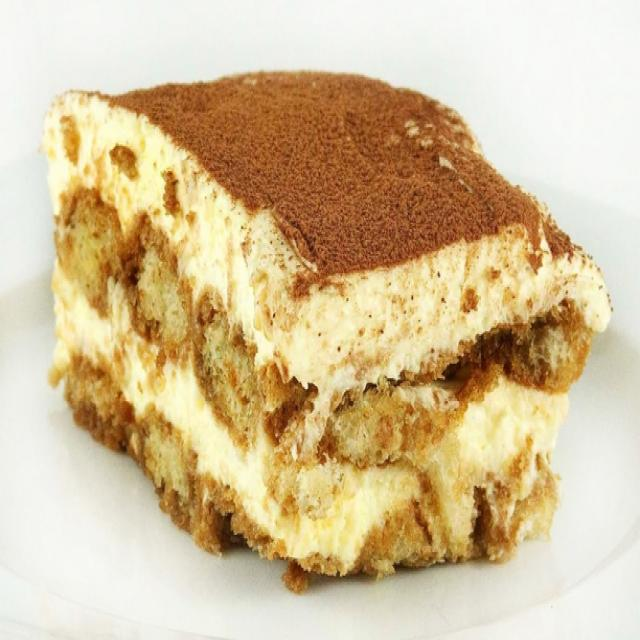蛋糕甜品: (20, 35, 623, 622)
